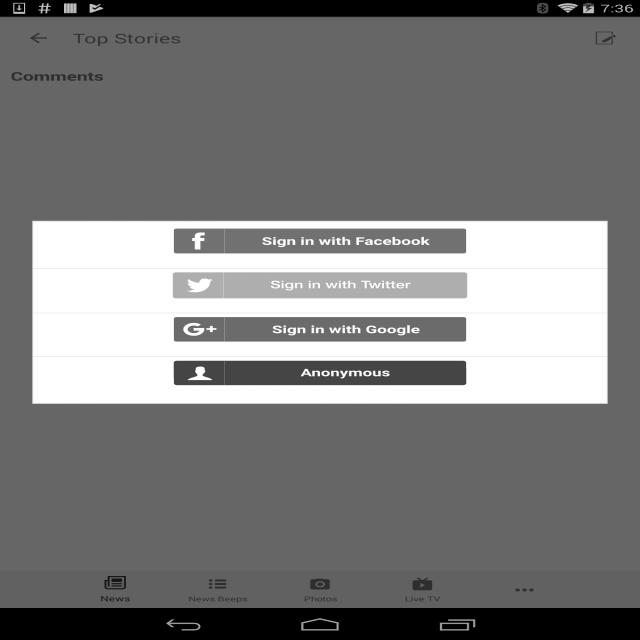ImageButton: (9, 17, 68, 59)
ImageView: (102, 574, 128, 590), (307, 576, 333, 592), (512, 576, 538, 592), (205, 576, 230, 592), (410, 576, 435, 592)
TextView: (0, 59, 640, 93), (235, 349, 404, 361), (72, 29, 182, 47), (580, 22, 632, 54), (64, 594, 166, 604), (166, 594, 269, 603), (371, 594, 474, 603), (269, 594, 371, 603), (474, 594, 576, 603)
